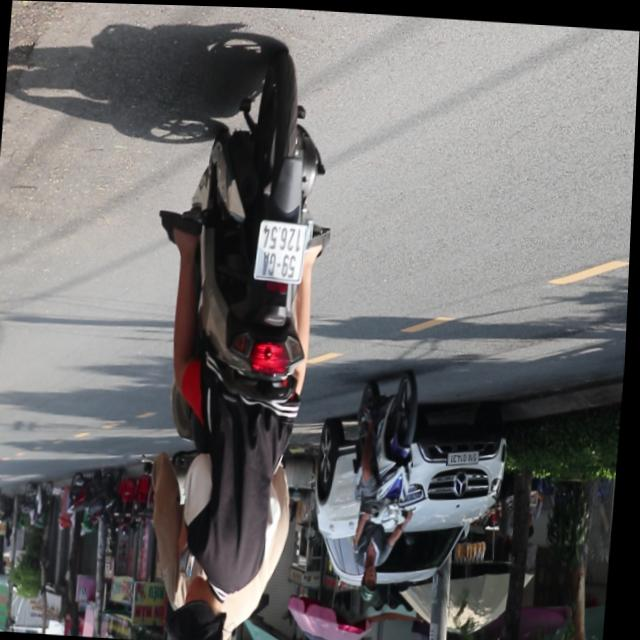helmet: (363, 561, 385, 601)
licenseplate: (134, 36, 350, 640), (343, 366, 428, 606)
motorcyclist: (178, 582, 236, 640)
nohelmet: (255, 218, 309, 281)
